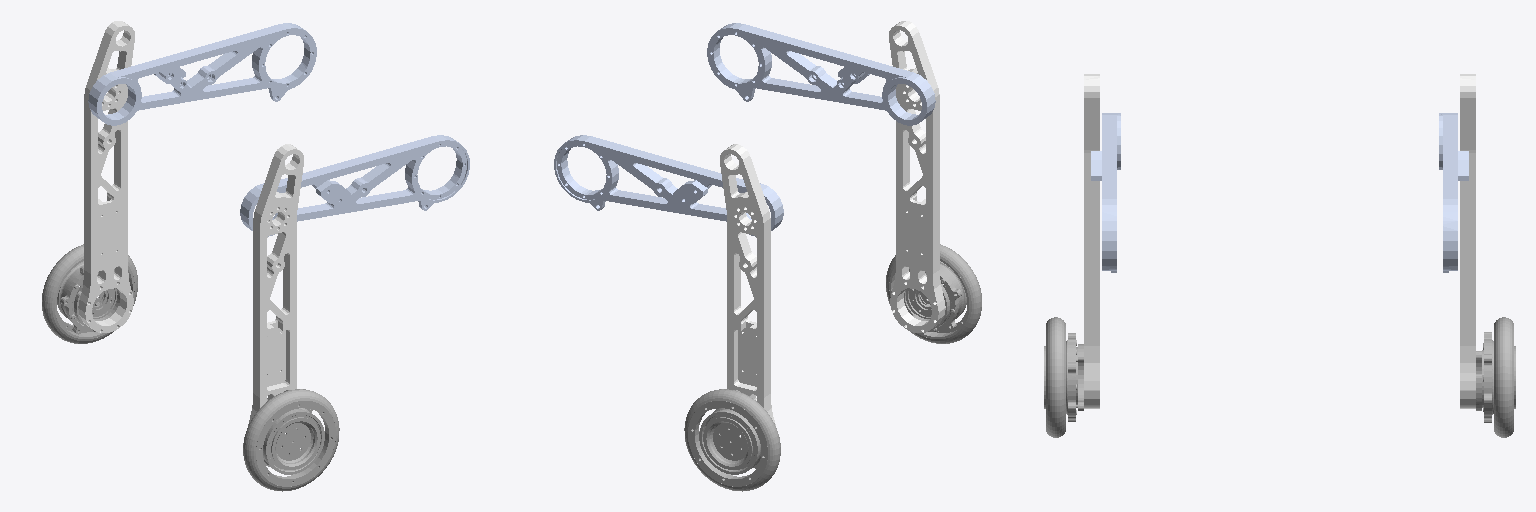
URDF robot description (wheel_legged_v4):
<?xml version="1.0" encoding="utf-8"?>
<!-- This URDF was automatically created by SolidWorks to URDF Exporter! Originally created by Stephen Brawner (brawner@gmail.com) 
     Commit Version: 1.6.0-4-g7f85cfe  Build Version: 1.6.7995.38578
     For more information, please see http://wiki.ros.org/sw_urdf_exporter -->
<robot
  name="wheel_legged_v4">
  <link
    name="base_link">
    <inertial>
      <origin
        xyz="-0.019 -0.004 0.143"
        rpy="0 0 0" />
      <mass
        value="16.524" />
      <inertia
        ixx="0.251141"
        ixy="-0.007565"
        ixz="0.003735"
        iyy="0.369127"
        iyz="0.009545"
        izz="0.294251" />
    </inertial>
    <visual>
      <origin
        xyz="0 0 0"
        rpy="0 0 0" />
      <geometry>
        <mesh
          filename="../meshes/base_link.STL" />
      </geometry>
      <material
        name="">
        <color
          rgba="0.752941176470588 0.752941176470588 0.752941176470588 1" />
      </material>
    </visual>
    <collision>
      <origin
        xyz="0 0 0"
        rpy="0 0 0" />
      <geometry>
        <mesh
          filename="../meshes/base_link.STL" />
      </geometry>
    </collision>
  </link>
  <link
    name="left_thigh_link">
    <inertial>
      <origin
        xyz="-0.101619 -0.003797 0.001285"
        rpy="0 0 0" />
      <mass
        value="0.3" />
      <inertia
        ixx="0.000130"
        ixy="-0.000008"
        ixz="0.000003"
        iyy="0.001597"
        iyz="0.000002"
        izz="0.001710" />
    </inertial>
    <visual>
      <origin
        xyz="0 0 0"
        rpy="0 0 0" />
      <geometry>
        <mesh
          filename="../meshes/left_thigh_link.STL" />
      </geometry>
      <material
        name="">
        <color
          rgba="0.866666666666667 0.909803921568627 1 1" />
      </material>
    </visual>
    <collision>
      <origin
        xyz="0 0 0"
        rpy="0 0 0" />
      <geometry>
        <mesh
          filename="../meshes/left_thigh_link.STL" />
      </geometry>
    </collision>
  </link>
  <joint
    name="left_thigh_joint"
    type="revolute">
    <origin
      xyz="0 0.162500000000001 0.115879159638825"
      rpy="-1.5707963267949 0 0" />
    <parent
      link="base_link" />
    <child
      link="left_thigh_link" />
    <axis
      xyz="0 0 1" />
    <limit
      lower="-3.14"
      upper="3.14"
      effort="30"
      velocity="1000" />
  </joint>
  <link
    name="left_leg_link">
    <inertial>
      <origin
        xyz="0.001518 0.102070 -0.000358"
        rpy="0 0 0" />
      <mass
        value="0.32" />
      <inertia
        ixx="0.002686"
        ixy="0.000065"
        ixz="0.000000"
        iyy="0.000075"
        iyz="0.000006"
        izz="0.002751" />
    </inertial>
    <visual>
      <origin
        xyz="0 0 0"
        rpy="0 0 0" />
      <geometry>
        <mesh
          filename="../meshes/left_leg_link.STL" />
      </geometry>
      <material
        name="">
        <color
          rgba="1 1 1 1" />
      </material>
    </visual>
    <collision>
      <origin
        xyz="0 0 0"
        rpy="0 0 0" />
      <geometry>
        <mesh
          filename="../meshes/left_leg_link.STL" />
      </geometry>
    </collision>
  </link>
  <joint
    name="left_leg_joint"
    type="revolute">
    <origin
      xyz="-0.21 0.0 0.018"
      rpy="0 0 0" />
    <parent
      link="left_thigh_link" />
    <child
      link="left_leg_link" />
    <axis
      xyz="0 0 1" />
    <limit
      lower="-1.2"
      upper="0.7"
      effort="30"
      velocity="1000" />
  </joint>
  <link
    name="left_wheel_link">
    <inertial>
      <origin
        xyz="0.000 0.000 0.011"
        rpy="0 0 0" />
      <mass
        value="0.350" />
      <inertia
        ixx="0.000283"
        ixy="0.00000"
        ixz="0.00000"
        iyy="0.000283"
        iyz="0.000001"
        izz="0.000537" />
    </inertial>
    <visual>
      <origin
        xyz="0 0 0"
        rpy="0 0 0" />
      <geometry>
        <mesh
          filename="../meshes/left_wheel_link.STL" />
      </geometry>
      <material
        name="">
        <color
          rgba="0.752941176470588 0.752941176470588 0.752941176470588 1" />
      </material>
    </visual>
    <collision>
      <origin
        xyz="0 0 0"
        rpy="0 0 0" />
      <geometry>
        <mesh
          filename="../meshes/left_wheel_link.STL" />
      </geometry>
    </collision>
  </link>
  <joint
    name="left_wheel_joint"
    type="revolute">
    <origin
      xyz="0.0 0.25 0.022043"
      rpy="0 0 0" />
    <parent
      link="left_leg_link" />
    <child
      link="left_wheel_link" />
    <axis
      xyz="0 0 1" />
    <limit
      effort="4.5"
      velocity="1000" />
  </joint>
  <link
    name="right_thigh_link">
    <inertial>
      <origin
        xyz="-0.101619 0.003797 0.001285"
        rpy="0 0 0" />
      <mass
        value="0.3" />
      <inertia
        ixx="0.000130"
        ixy="0.000008"
        ixz="0.000003"
        iyy="0.001597"
        iyz="-0.000002"
        izz="0.001710" />
    </inertial>
    <visual>
      <origin
        xyz="0 0 0"
        rpy="0 0 0" />
      <geometry>
        <mesh
          filename="../meshes/right_thigh_link.STL" />
      </geometry>
      <material
        name="">
        <color
          rgba="0.866666666666667 0.909803921568627 1 1" />
      </material>
    </visual>
    <collision>
      <origin
        xyz="0 0 0"
        rpy="0 0 0" />
      <geometry>
        <mesh
          filename="../meshes/right_thigh_link.STL" />
      </geometry>
    </collision>
  </link>
  <joint
    name="right_thigh_joint"
    type="revolute">
    <origin
      xyz="0 -0.1625 0.11588"
      rpy="1.5708 0 0" />
    <parent
      link="base_link" />
    <child
      link="right_thigh_link" />
    <axis
      xyz="0 0 1" />
    <limit
      lower="-3.14"
      upper="3.14"
      effort="30"
      velocity="1000" />
  </joint>
  <link
    name="right_leg_link">
    <inertial>
      <origin
        xyz="0.001518 -0.102070 -0.00036"
        rpy="0 0 0" />
      <mass
        value="0.32" />
      <inertia
        ixx="0.002686"
        ixy="-0.000065"
        ixz="0.00000"
        iyy="0.000075"
        iyz="-0.000006"
        izz="0.00275" />
    </inertial>
    <visual>
      <origin
        xyz="0 0 0"
        rpy="0 0 0" />
      <geometry>
        <mesh
          filename="../meshes/right_leg_link.STL" />
      </geometry>
      <material
        name="">
        <color
          rgba="1 1 1 1" />
      </material>
    </visual>
    <collision>
      <origin
        xyz="0 0 0"
        rpy="0 0 0" />
      <geometry>
        <mesh
          filename="../meshes/right_leg_link.STL" />
      </geometry>
    </collision>
  </link>
  <joint
    name="right_leg_joint"
    type="revolute">
    <origin
      xyz="-0.21 0.0 0.018"
      rpy="0 0 0" />
    <parent
      link="right_thigh_link" />
    <child
      link="right_leg_link" />
    <axis
      xyz="0 0 1" />
    <limit
      lower="-0.7"
      upper="1.2"
      effort="30"
      velocity="1000" />
  </joint>
  <link
    name="right_wheel_link">
    <inertial>
      <origin
        xyz="-0.00026 0.000 0.0115"
        rpy="0 0 0" />
      <mass
        value="0.350" />
      <inertia
        ixx="0.000283"
        ixy="0.000"
        ixz="-0.000001"
        iyy="0.000282"
        iyz="0.000"
        izz="0.000537" />
    </inertial>
    <visual>
      <origin
        xyz="0 0 0"
        rpy="0 0 0" />
      <geometry>
        <mesh
          filename="../meshes/right_wheel_link.STL" />
      </geometry>
      <material
        name="">
        <color
          rgba="0.752941176470588 0.752941176470588 0.752941176470588 1" />
      </material>
    </visual>
    <collision>
      <origin
        xyz="0 0 0"
        rpy="0 0 0" />
      <geometry>
        <mesh
          filename="../meshes/right_wheel_link.STL" />
      </geometry>
    </collision>
  </link>
  <joint
    name="right_wheel_joint"
    type="revolute">
    <origin
      xyz="0.0 -0.25 0.022043"
      rpy="0 0 0" />
    <parent
      link="right_leg_link" />
    <child
      link="right_wheel_link" />
    <axis
      xyz="0 0 1" />
    <limit
      effort="4.5"
      velocity="1000" />
  </joint>
</robot>

--- Facts derived from the render (not from the file) ---
The picture shows the robot from 3 angles, left to right: view 1: azimuth 30°, elevation 25°; view 2: azimuth 150°, elevation 25°; view 3: azimuth 270°, elevation 25°; orthographic projection.
Model wheel_legged_v4 with 7 links and 6 joints (6 revolute), rooted at base_link, posed all joints at 0.
Visible links, largest first — view 1: left_leg_link, right_leg_link, left_thigh_link, right_thigh_link, right_wheel_link, left_wheel_link; view 2: right_leg_link, left_leg_link, right_thigh_link, left_thigh_link, left_wheel_link, right_wheel_link; view 3: left_leg_link, right_leg_link, right_wheel_link, left_wheel_link, left_thigh_link, right_thigh_link.
Boxes of the visible links, left/top/right/bottom form: left_leg_link: left=78, top=21, right=134, bottom=332; right_leg_link: left=248, top=144, right=303, bottom=425; left_thigh_link: left=88, top=23, right=316, bottom=125; right_thigh_link: left=240, top=135, right=469, bottom=236; right_wheel_link: left=243, top=389, right=339, bottom=491; left_wheel_link: left=42, top=244, right=137, bottom=343; right_leg_link: left=889, top=21, right=945, bottom=332; left_leg_link: left=720, top=144, right=775, bottom=425; right_thigh_link: left=707, top=23, right=935, bottom=125; left_thigh_link: left=554, top=135, right=783, bottom=236; left_wheel_link: left=684, top=389, right=780, bottom=491; right_wheel_link: left=886, top=244, right=981, bottom=343; left_leg_link: left=1460, top=74, right=1475, bottom=408; right_leg_link: left=1084, top=74, right=1099, bottom=408; right_wheel_link: left=1044, top=317, right=1083, bottom=437; left_wheel_link: left=1476, top=317, right=1515, bottom=437; left_thigh_link: left=1439, top=113, right=1468, bottom=272; right_thigh_link: left=1091, top=113, right=1120, bottom=272.
Size in the robot's own frame: 0.3039 by 0.452 by 0.3857 metres.
Meshes: 7 distinct files referenced, 6 mesh visuals loaded (6 binary STL); not drawn: 1 (reference not matched to a file when rendering).
